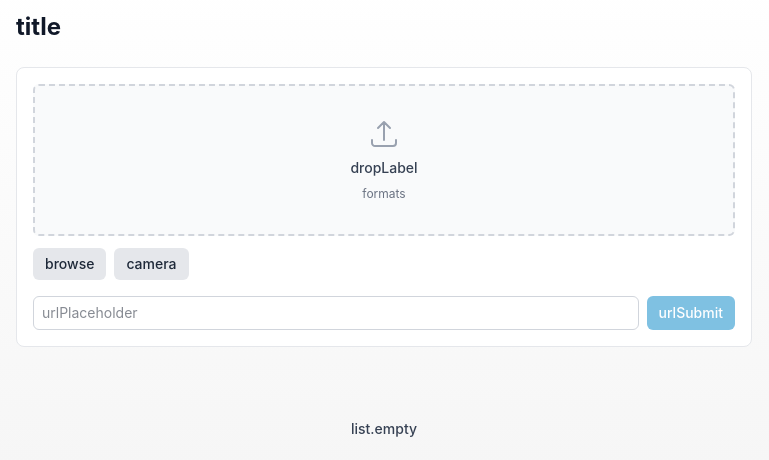
Scenario: ReceiptsClient › adds URL receipts through the form
Type "https://r.example/x" into the field with test id "receipt-url-input".
click(336, 313); type("https://r.example/x")  # box [33, 296, 639, 330]
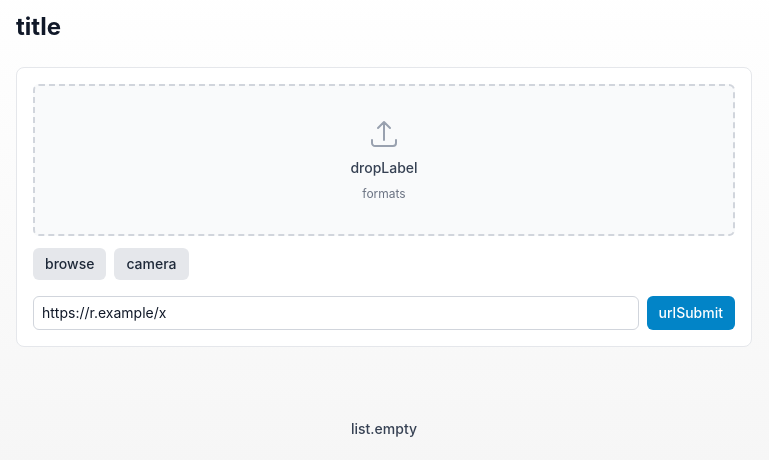
Click the button with test id "receipt-url-submit".
click(691, 313)  # box [647, 296, 735, 330]
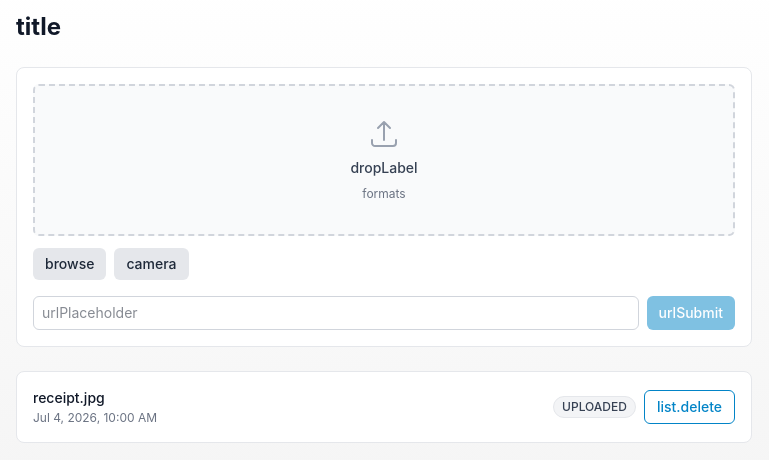
Now the list item with test id "receipt-row-r-url" is shown, box [16, 371, 752, 443]
